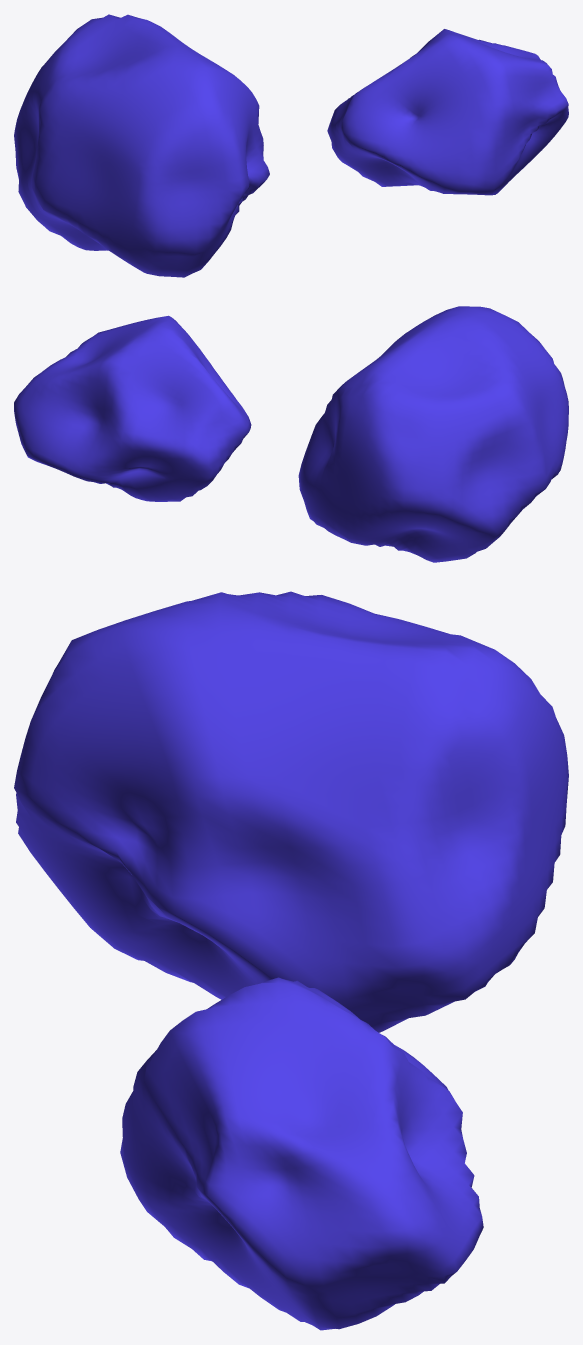
Rendered from Drugs.fbx.
3 renders of one model, top to bottom at view 1: azimuth 30°, elevation 25°; view 2: azimuth 150°, elevation 25°; view 3: azimuth 270°, elevation 25°, orthographic. The views are drawn at different scales.
Parts seen in each view (by area): view 1: Cube, Cube.001; view 2: Cube, Cube.001; view 3: Cube, Cube.001.
Boxes of the visible parts, box(x1,y1,x2,y2) form: Cube: box(14, 14, 269, 277); Cube.001: box(327, 29, 568, 195); Cube: box(298, 306, 568, 562); Cube.001: box(14, 315, 251, 501); Cube: box(14, 591, 568, 1032); Cube.001: box(120, 977, 483, 1330).
Bounding box in the file's own units: 329 × 139 × 170.
